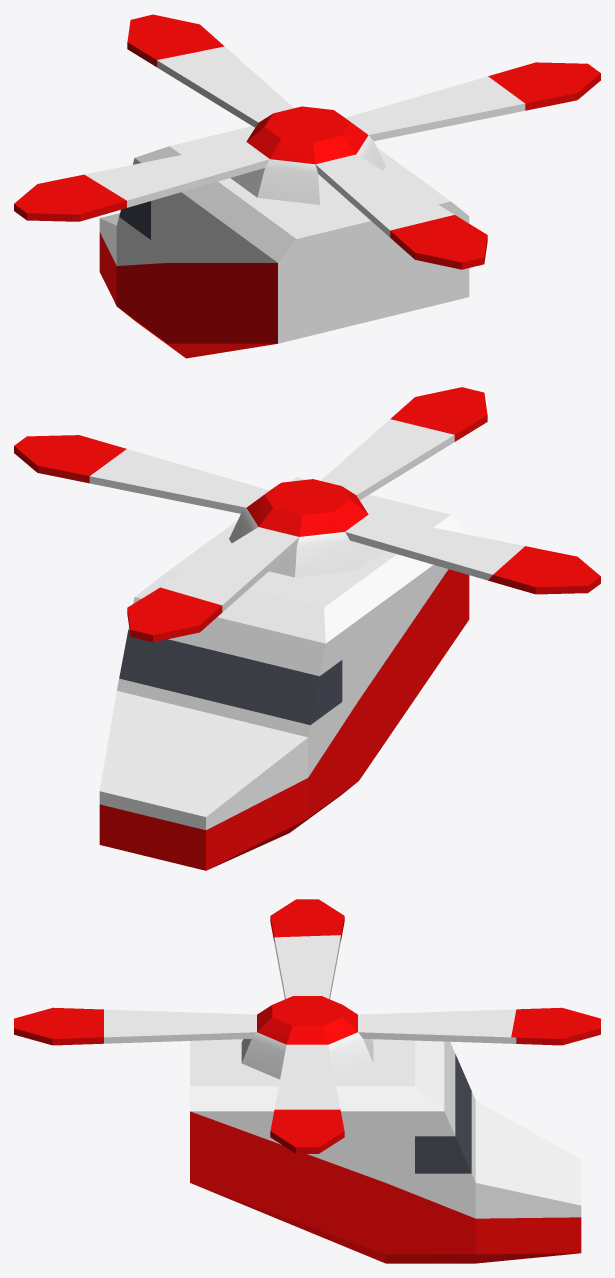
Rendered from BasicHelicopter.fbx.
3 renders of one model, top to bottom at view 1: azimuth 30°, elevation 25°; view 2: azimuth 150°, elevation 25°; view 3: azimuth 270°, elevation 25°, orthographic. The views are drawn at different scales.
Parts seen in each view (by area): view 1: detail_propeller_2, plane_end_1, plane_cockpitClassic_0; view 2: plane_cockpitClassic_0, detail_propeller_2, plane_end_1; view 3: detail_propeller_2, plane_cockpitClassic_0, plane_end_1.
Boxes of the visible parts, bbox=[...] form: detail_propeller_2: bbox=[14, 14, 600, 269]; plane_end_1: bbox=[167, 147, 469, 358]; plane_cockpitClassic_0: bbox=[99, 108, 323, 356]; plane_cockpitClassic_0: bbox=[99, 558, 358, 870]; detail_propeller_2: bbox=[14, 387, 600, 642]; plane_end_1: bbox=[186, 477, 469, 780]; detail_propeller_2: bbox=[14, 899, 600, 1153]; plane_cockpitClassic_0: bbox=[385, 1039, 581, 1263]; plane_end_1: bbox=[190, 1039, 385, 1263].
Size of the model in its own units: 30 by 12.36 by 30.
